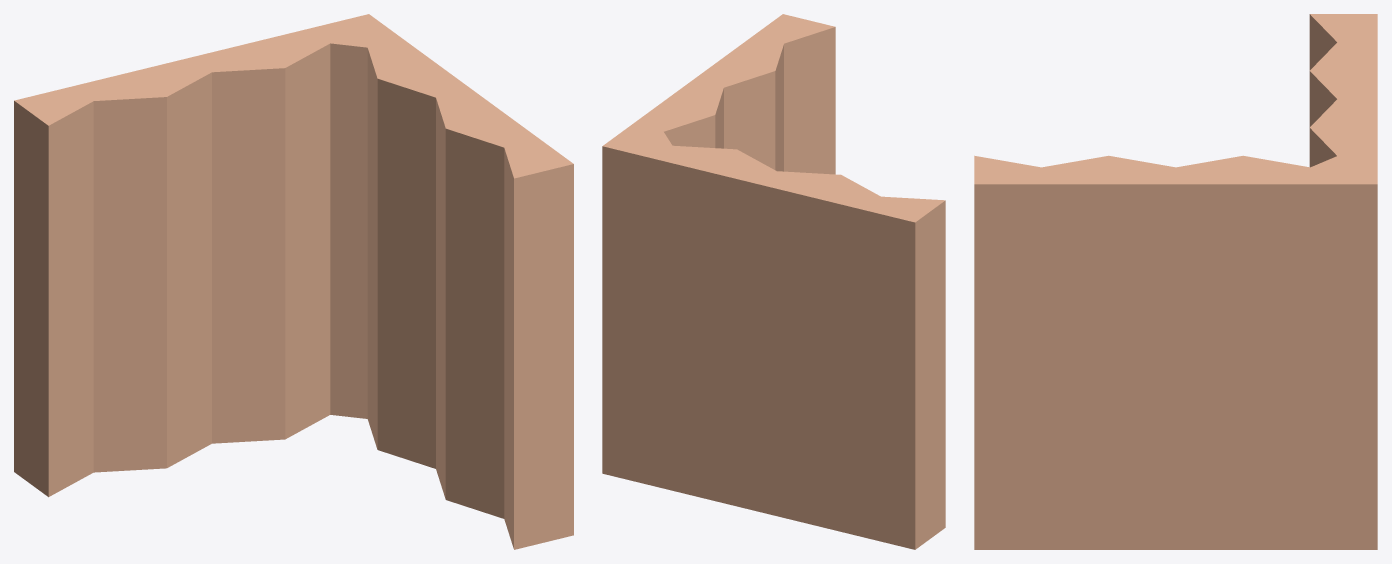
3 views of the same model, side by side, from view 1: azimuth 30°, elevation 25°; view 2: azimuth 150°, elevation 25°; view 3: azimuth 270°, elevation 25° (orthographic). The views are drawn at different scales.
Parts seen in each view (by area): view 1: cliff_cornerInner_rock; view 2: cliff_cornerInner_rock; view 3: cliff_cornerInner_rock.
Boxes of the visible parts, x1=… form: cliff_cornerInner_rock: x1=14, y1=14, x2=573, y2=549; cliff_cornerInner_rock: x1=602, y1=14, x2=945, y2=549; cliff_cornerInner_rock: x1=974, y1=14, x2=1377, y2=549.
Size of the model in its own units: 1 by 1 by 1.
